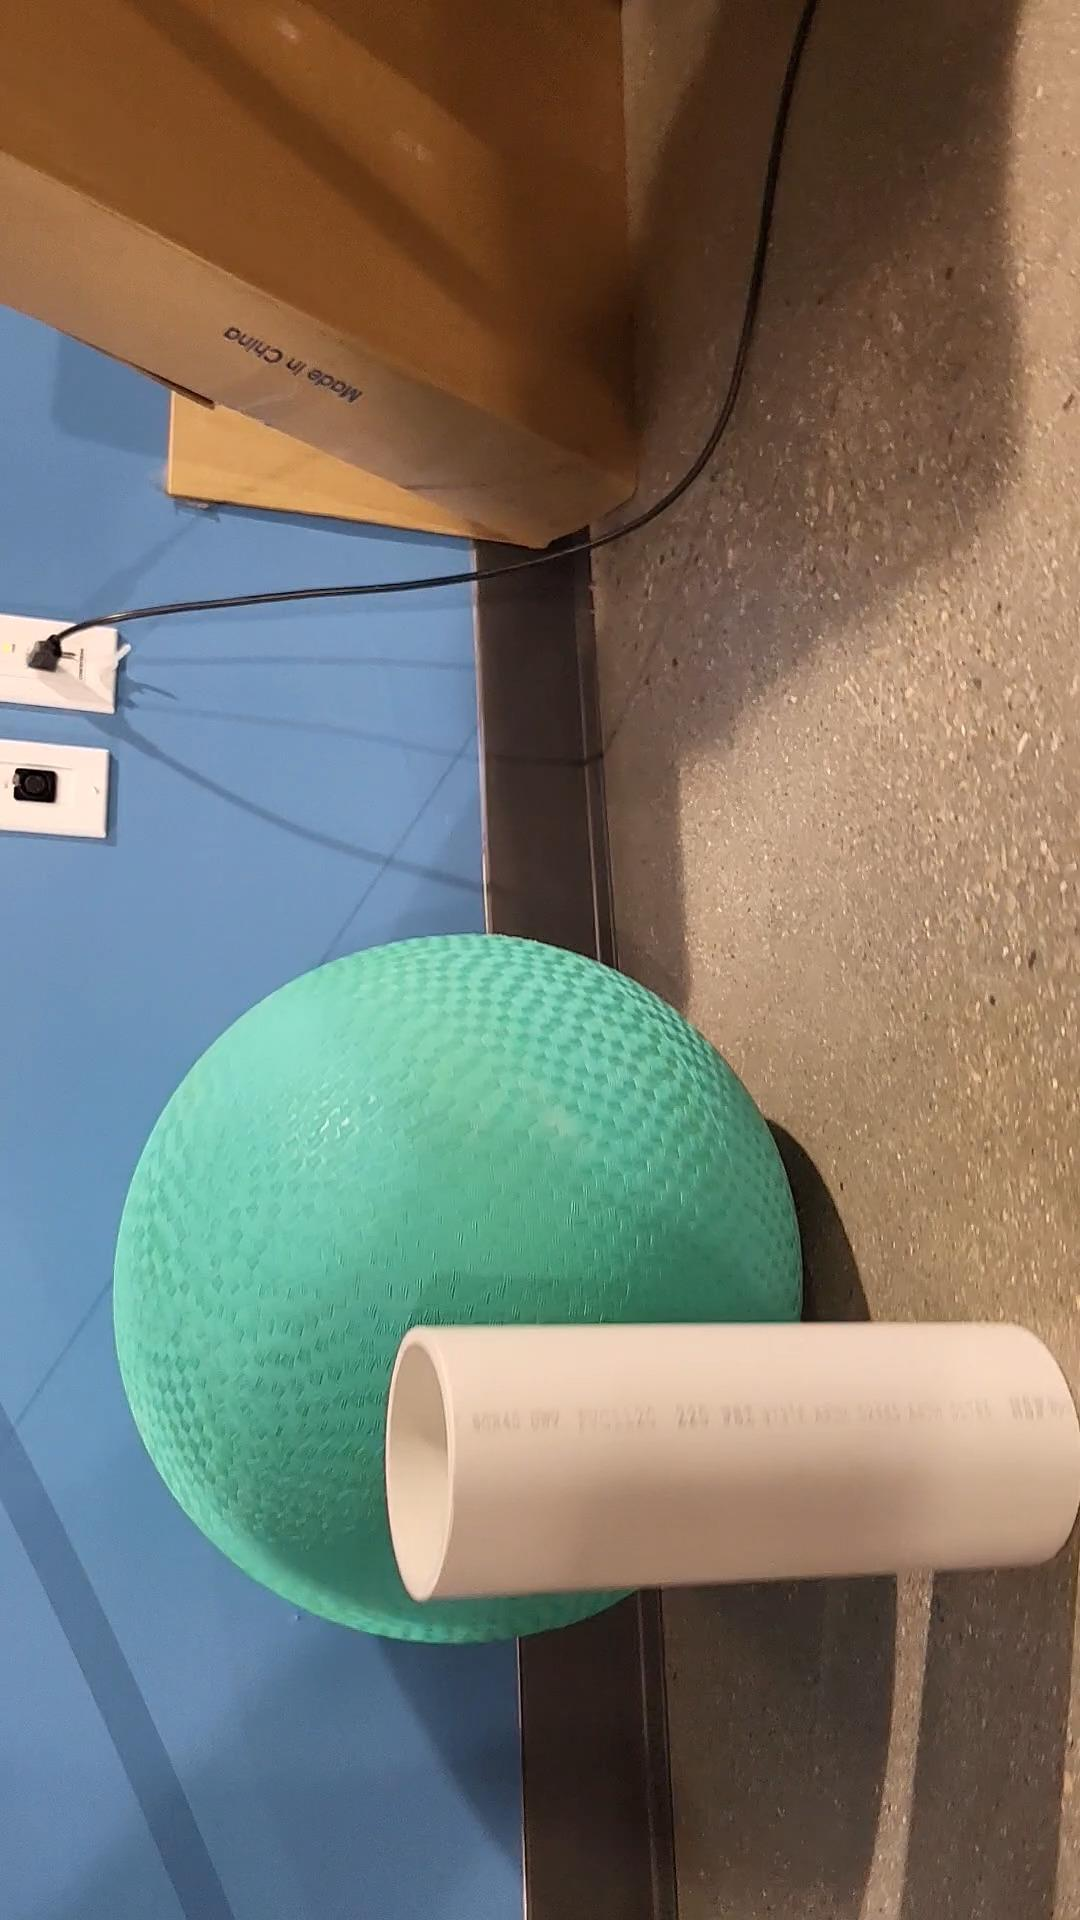algae: (109, 938, 800, 1647)
coral: (385, 1325, 1080, 1600)
